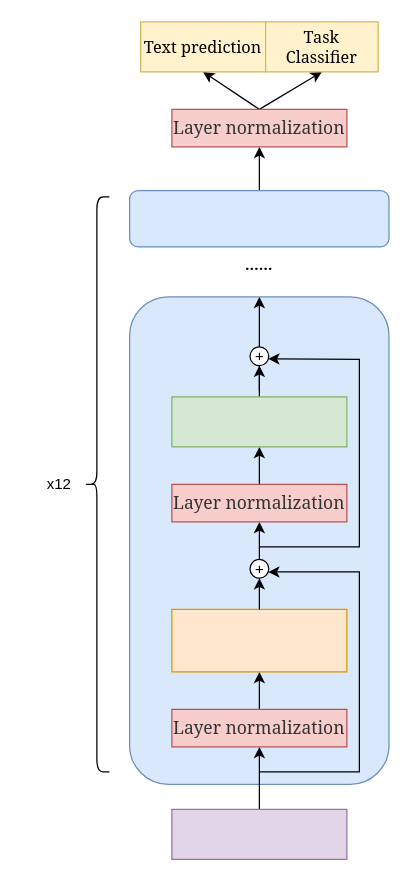
Image size: 411x881. Some labels were removed from this diagram. Each missing label, with the centre of its shape:
Masked Multi-Head Self-Attention: point (259, 640)
Positionwise feed-forward network: point (259, 421)
Text Embedding & Position Encoding: point (259, 833)
Transformer Block: point (258, 218)
